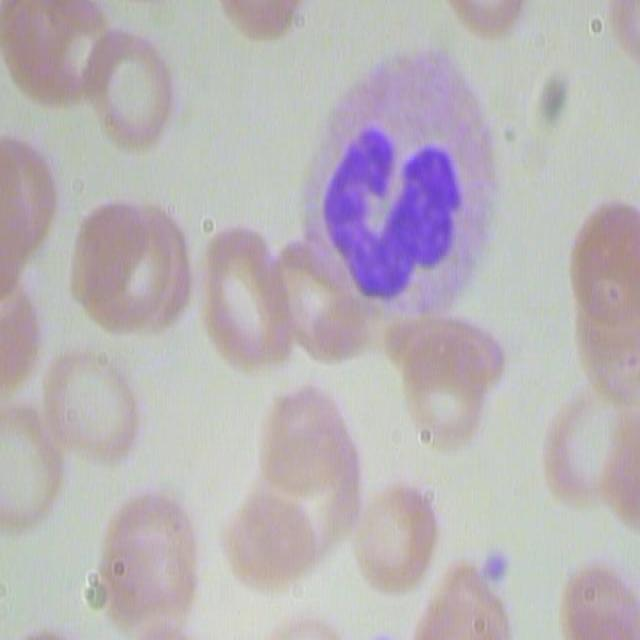RBC: (68, 191, 198, 345), (247, 392, 351, 569), (92, 482, 199, 634), (395, 299, 496, 456), (197, 214, 292, 375), (270, 218, 371, 366), (36, 338, 146, 468), (83, 15, 183, 151), (566, 200, 637, 384), (538, 380, 638, 509), (0, 2, 109, 114), (346, 480, 444, 596), (0, 123, 59, 268), (413, 562, 514, 640), (205, 0, 308, 37), (440, 0, 534, 38)
WBC: (316, 60, 488, 313)
platelets: (472, 540, 515, 608)
